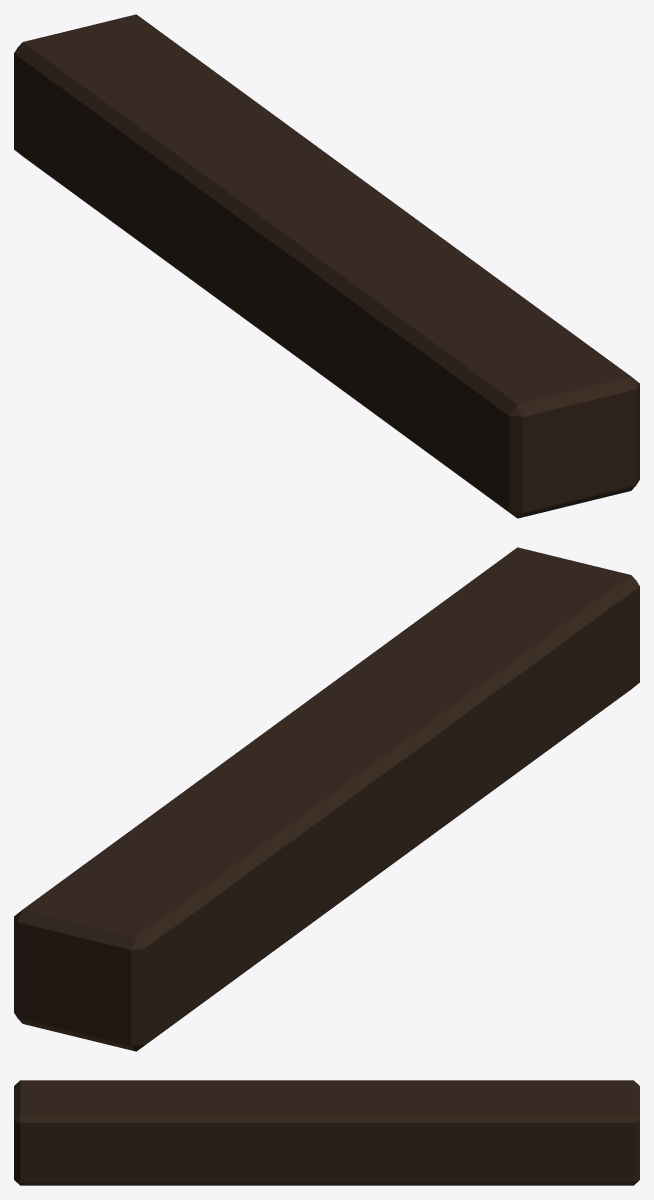
The model's file is beam_l8.fbx.
3 views of the same model, one above another, from view 1: azimuth 30°, elevation 25°; view 2: azimuth 150°, elevation 25°; view 3: azimuth 270°, elevation 25° (orthographic). The views are drawn at different scales.
Parts seen in each view (by area): view 1: beam_l8; view 2: beam_l8; view 3: beam_l8.
Boxes of the visible parts, x1,y1,x2,y2 form: beam_l8: [14, 14, 639, 518]; beam_l8: [14, 547, 639, 1051]; beam_l8: [14, 1080, 639, 1185].
Bounding box in the file's own units: 120 × 100 × 800.
